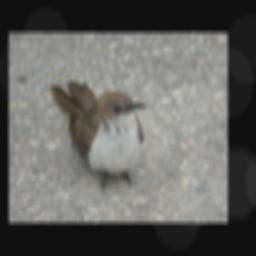Cuckoo: (50, 80, 148, 193)
